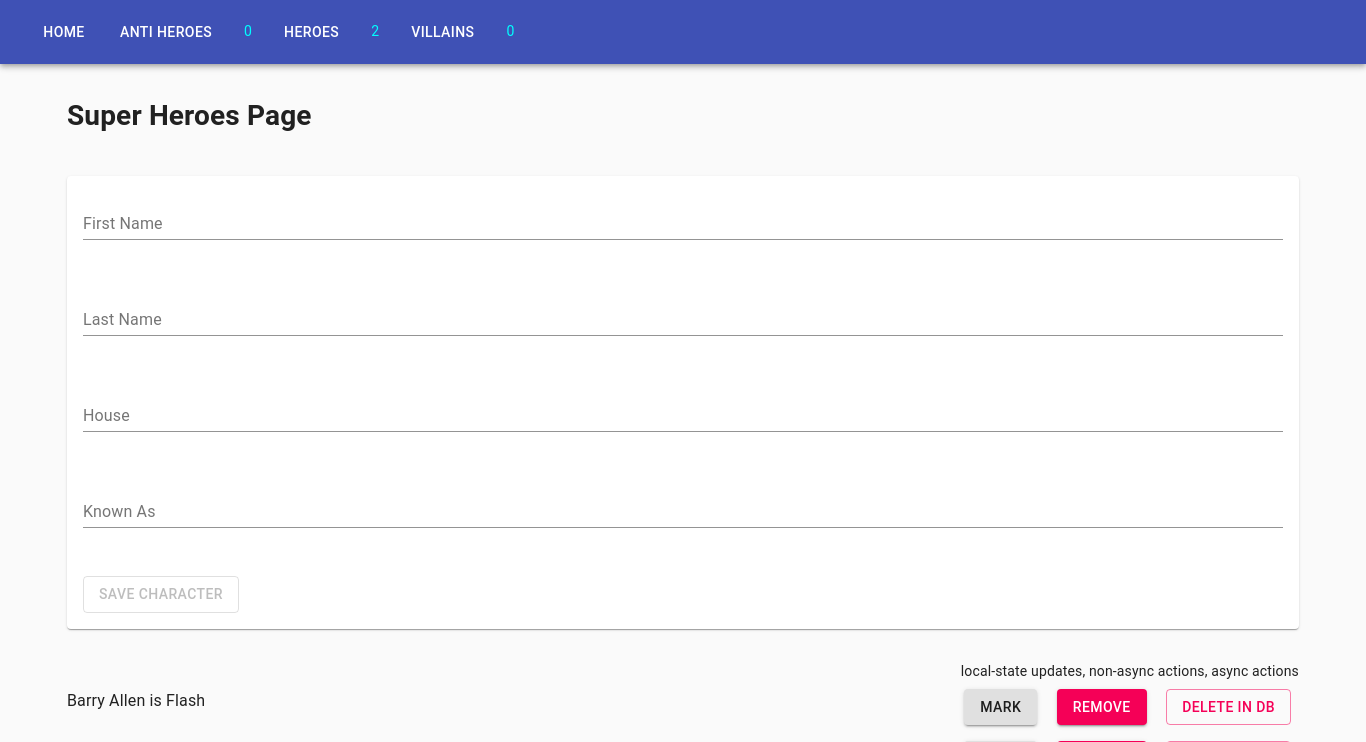
Heroes Page › should remove a hero from the store
The width and height of the screenshot is (1366, 742).
Step 1. Click the button with test id "remove-button" in the row of "Barry Allen is Flash" → click(1102, 707), box [1057,688,1147,725]
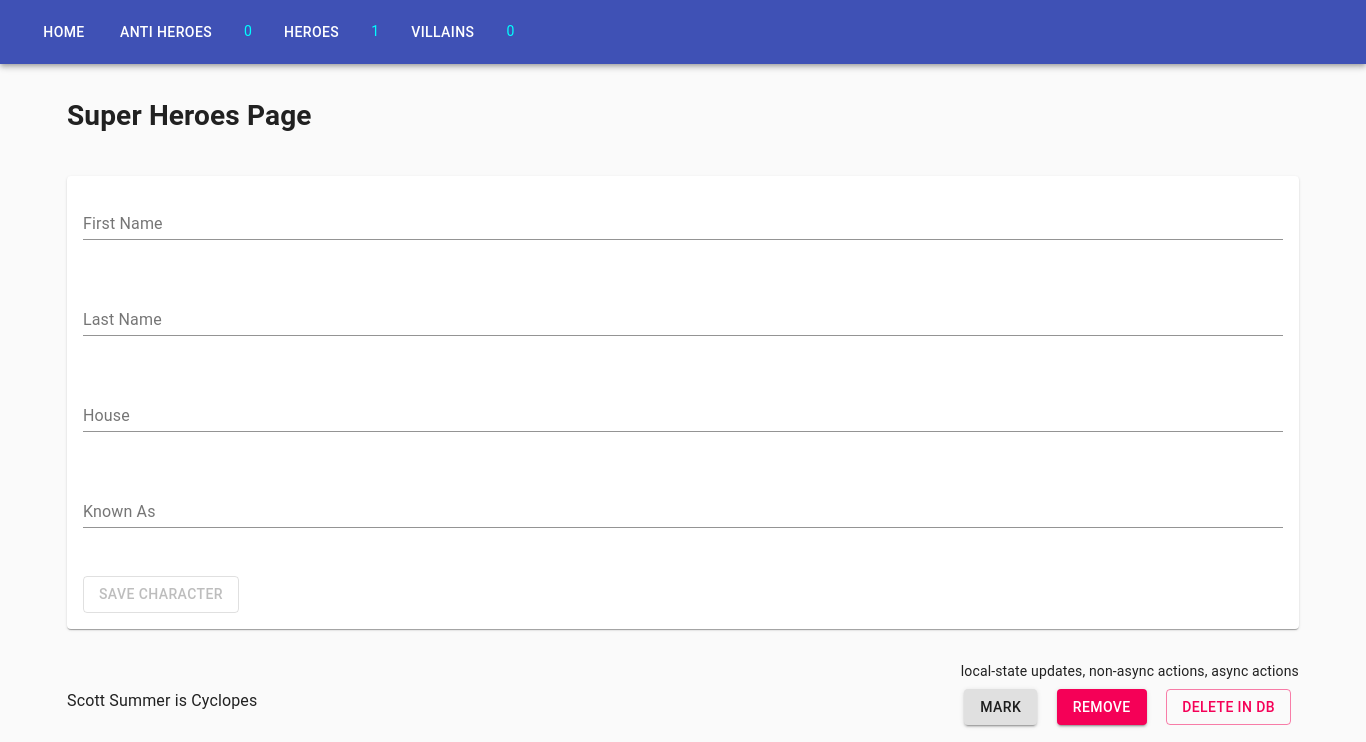
expect the element with test id "card" is shown: met, box [67,688,1299,725]
expect the text with test id "total-heroes" reads "1": met, box [371,23,379,39]
